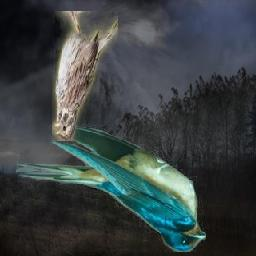Sparrow: (52, 11, 118, 141)
Swallow: (16, 124, 206, 253)
